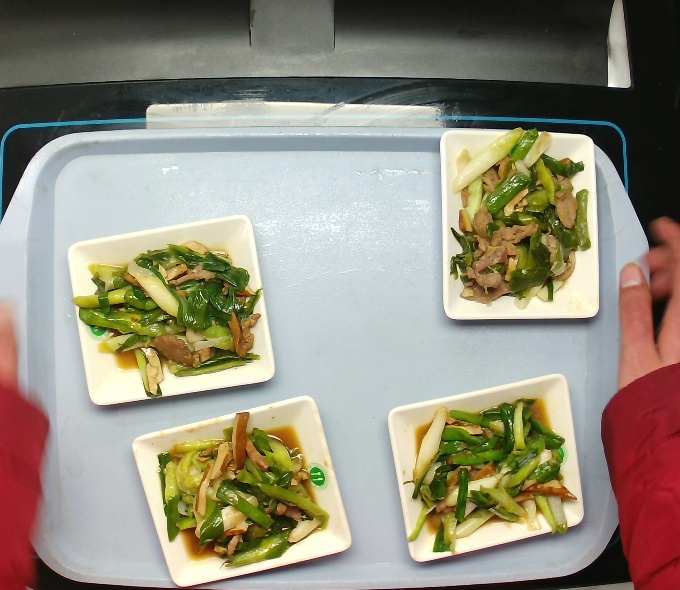wcq-SuanYeChaoRou: (65, 236, 266, 402), (395, 392, 582, 562), (153, 409, 333, 577), (444, 122, 595, 313)
